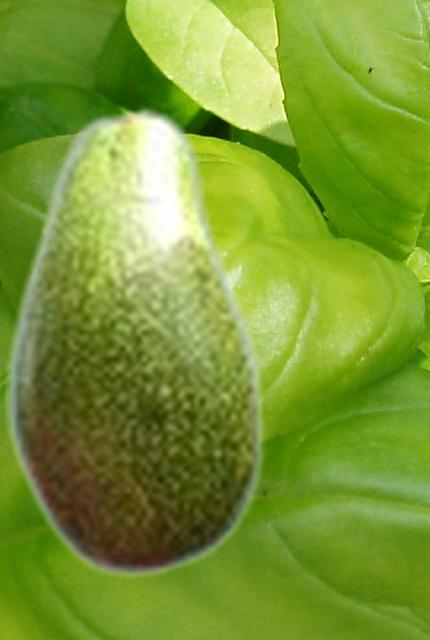avocado: (5, 103, 266, 581)
